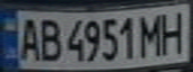1: (115, 13, 139, 60)
4: (63, 16, 84, 62)
5: (100, 15, 121, 62)
9: (81, 16, 103, 63)
A: (15, 15, 42, 62)
B: (36, 15, 63, 62)
H: (157, 7, 190, 55)
M: (136, 10, 166, 56)
